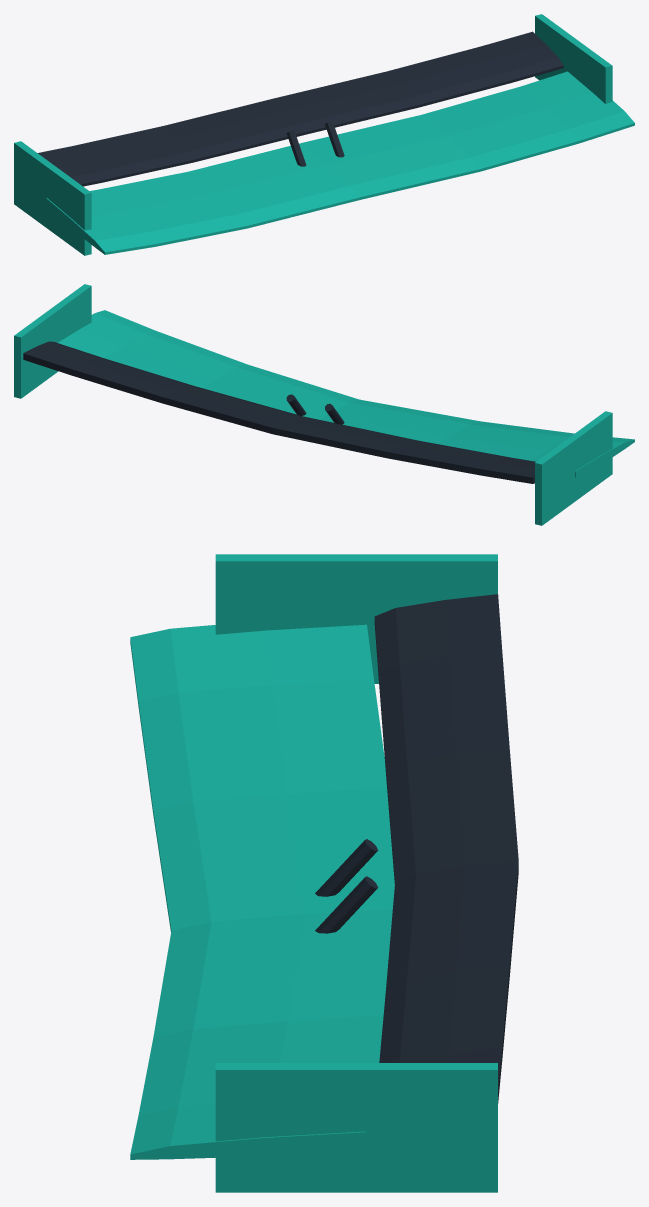
File: manta.glb
3 renders of one model, top to bottom at view 1: azimuth 30°, elevation 25°; view 2: azimuth 150°, elevation 25°; view 3: azimuth 270°, elevation 25°, orthographic. The views are drawn at different scales.
Parts seen in each view (by area): view 1: FrontWing; view 2: FrontWing; view 3: FrontWing.
Boxes of the visible parts, x1,y1,x2,y2 form: FrontWing: (14,14,634,255); FrontWing: (14,284,634,525); FrontWing: (130,554,518,1192).
Bounding box in the file's own units: 2.08 × 0.232 × 0.66.
